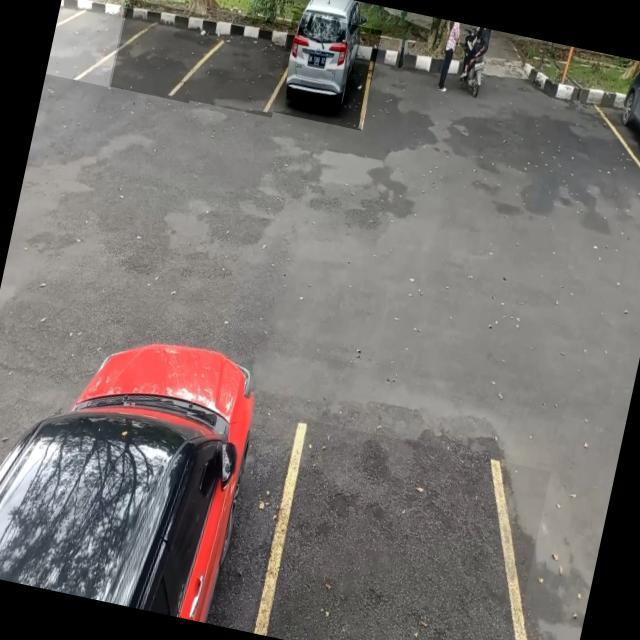empty: (249, 417, 550, 640), (187, 8, 291, 118), (109, 0, 207, 103), (45, 0, 126, 86)
occupied: (272, 11, 382, 130)
